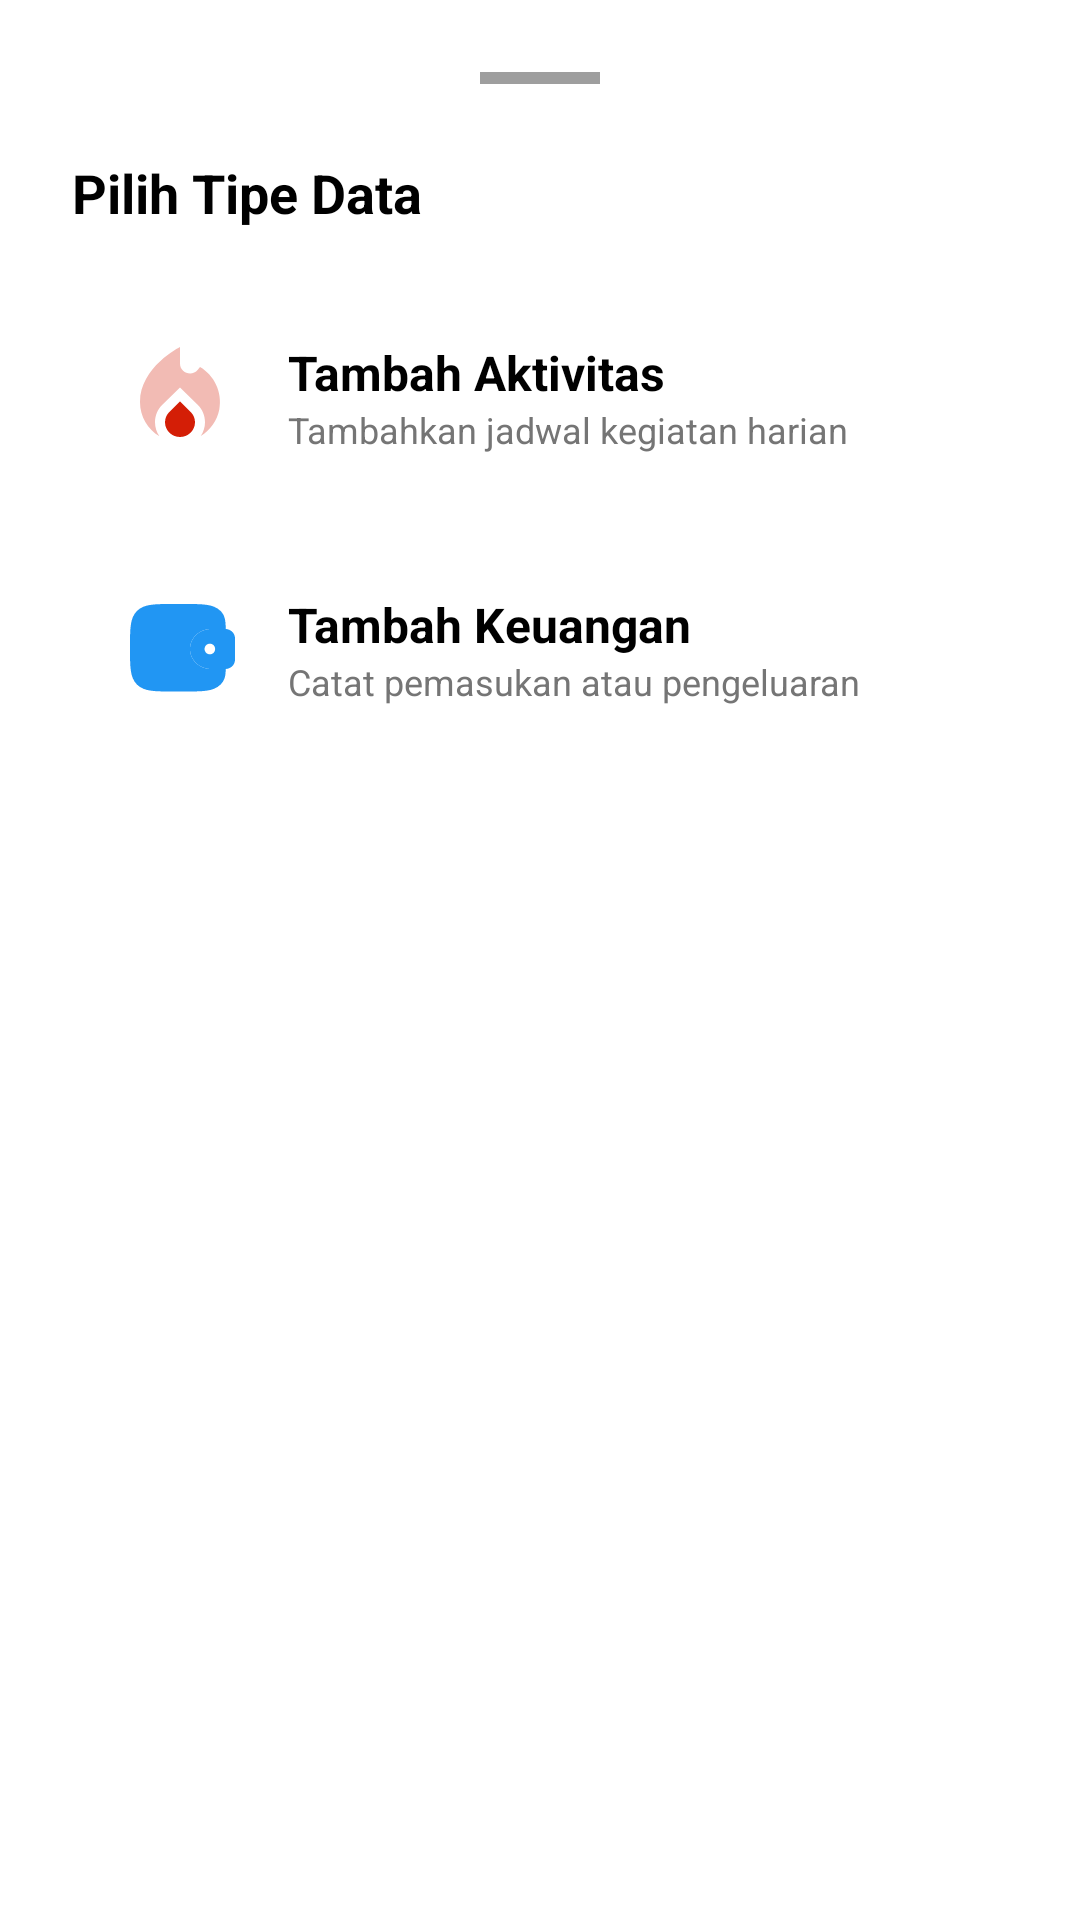

Point at icon controls on the screen. Image size 1080*1920, points as (x=x, y=y).
activity: (x=180, y=392)
finance: (x=182, y=648)
